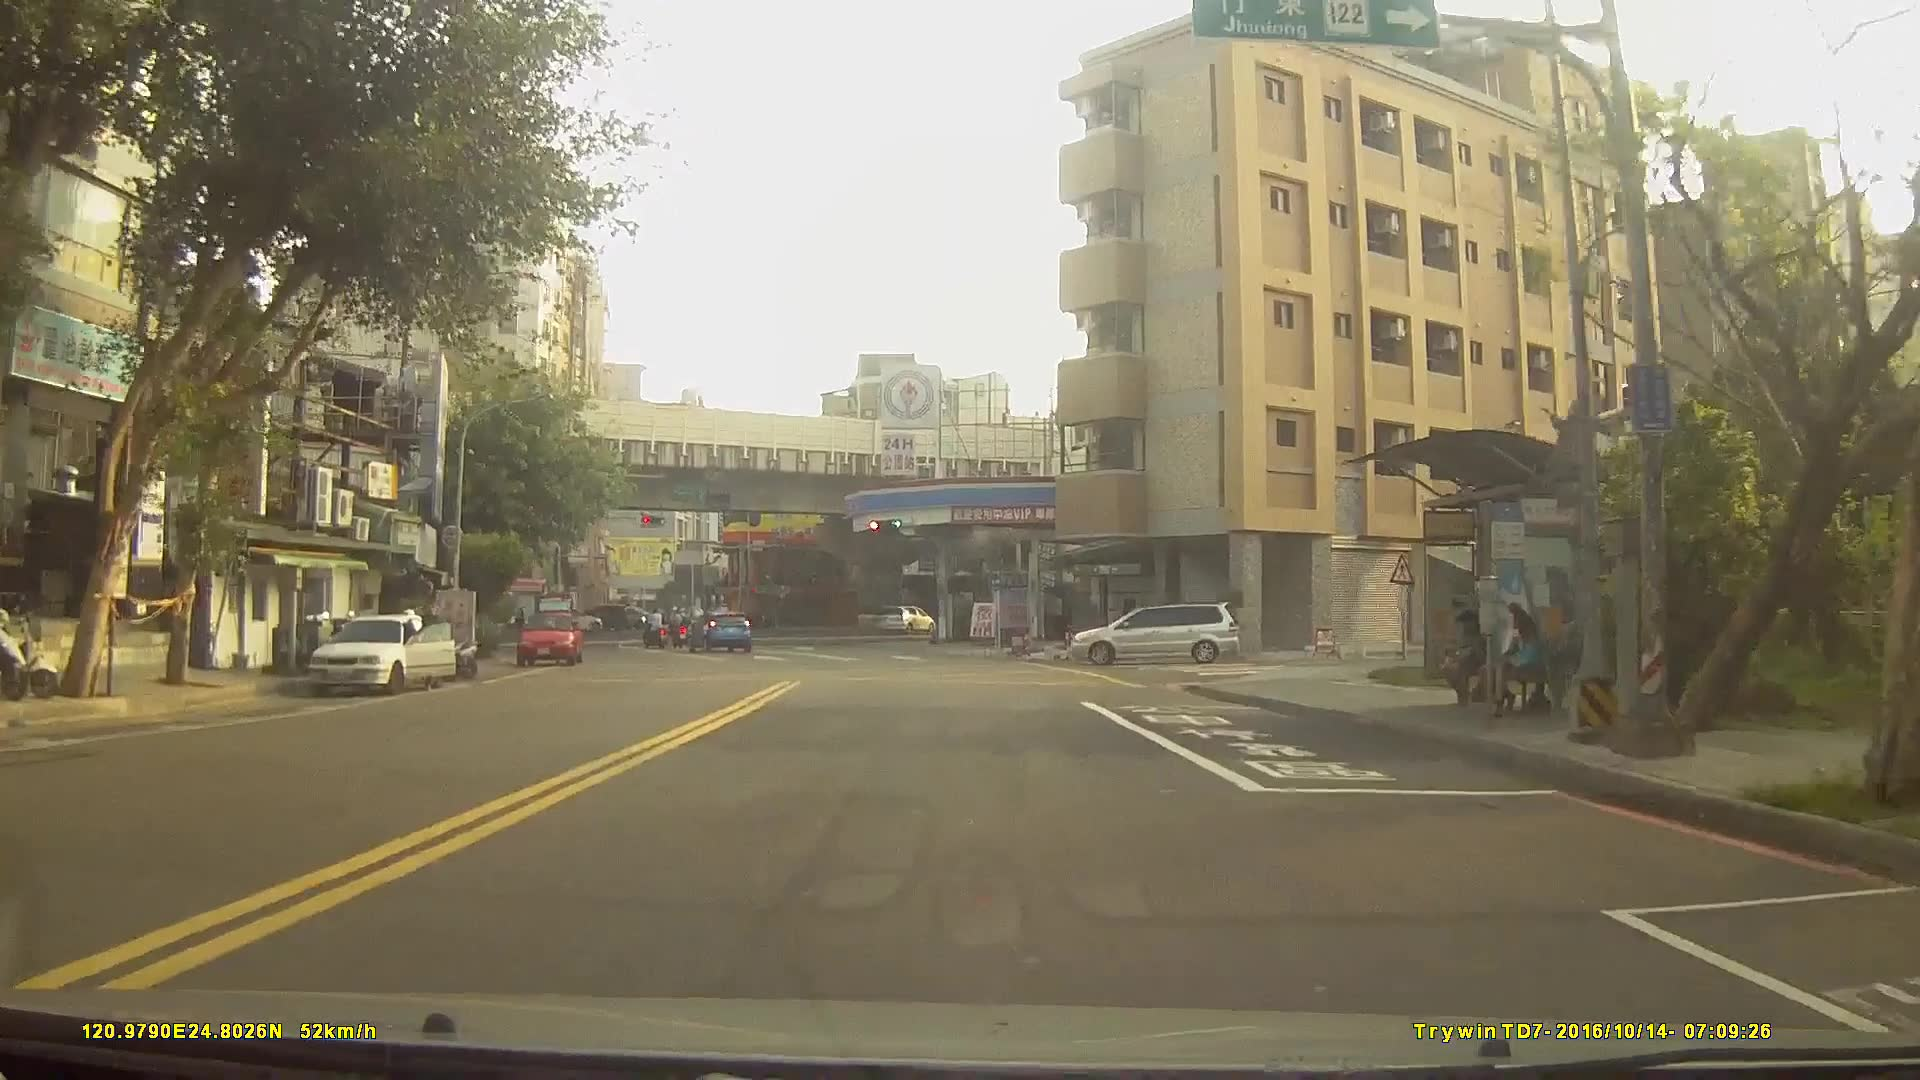pedestrian: (1495, 601, 1562, 711), (1443, 607, 1493, 701)
rider: (642, 608, 671, 652)
vehicle: (305, 609, 459, 693), (1065, 601, 1241, 663), (514, 609, 580, 666), (684, 608, 756, 653), (875, 603, 936, 633), (574, 602, 631, 632), (543, 606, 605, 633)
